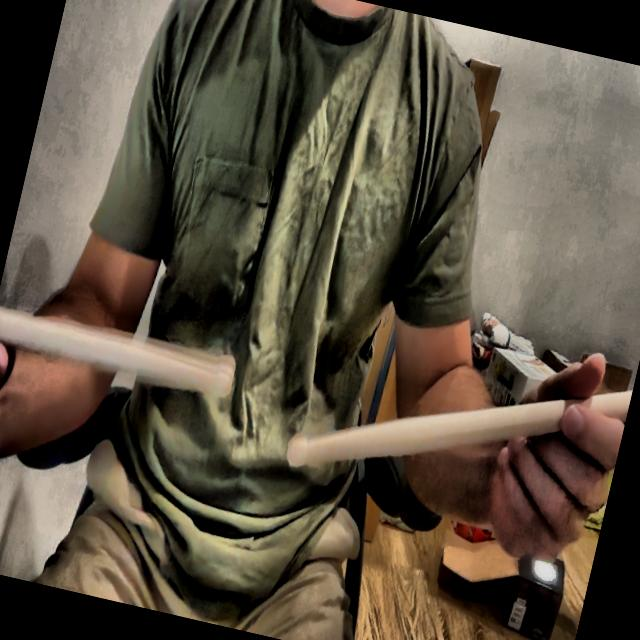Drumstick-Heads: (280, 412, 320, 478), (204, 342, 243, 409)
